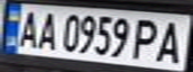0: (57, 10, 81, 53)
5: (93, 12, 115, 56)
9: (109, 13, 136, 60), (75, 11, 96, 55)
A: (151, 17, 190, 64), (12, 7, 45, 48), (33, 8, 60, 51)
P: (127, 16, 163, 61)
